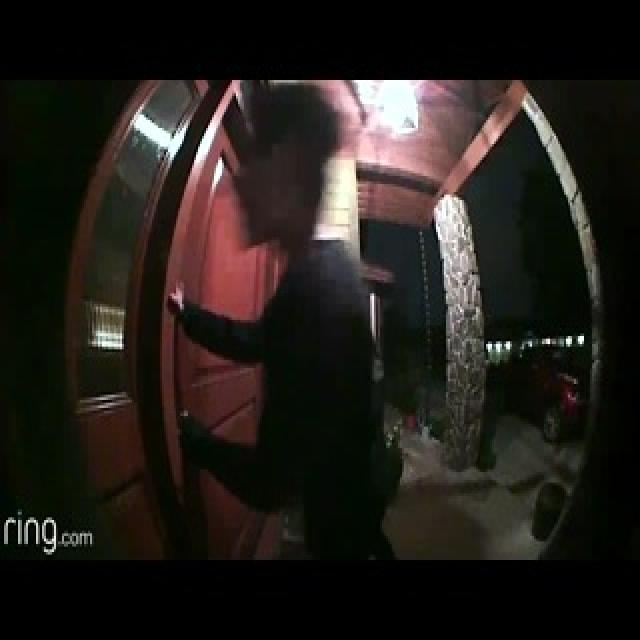thief: (225, 70, 399, 331)
